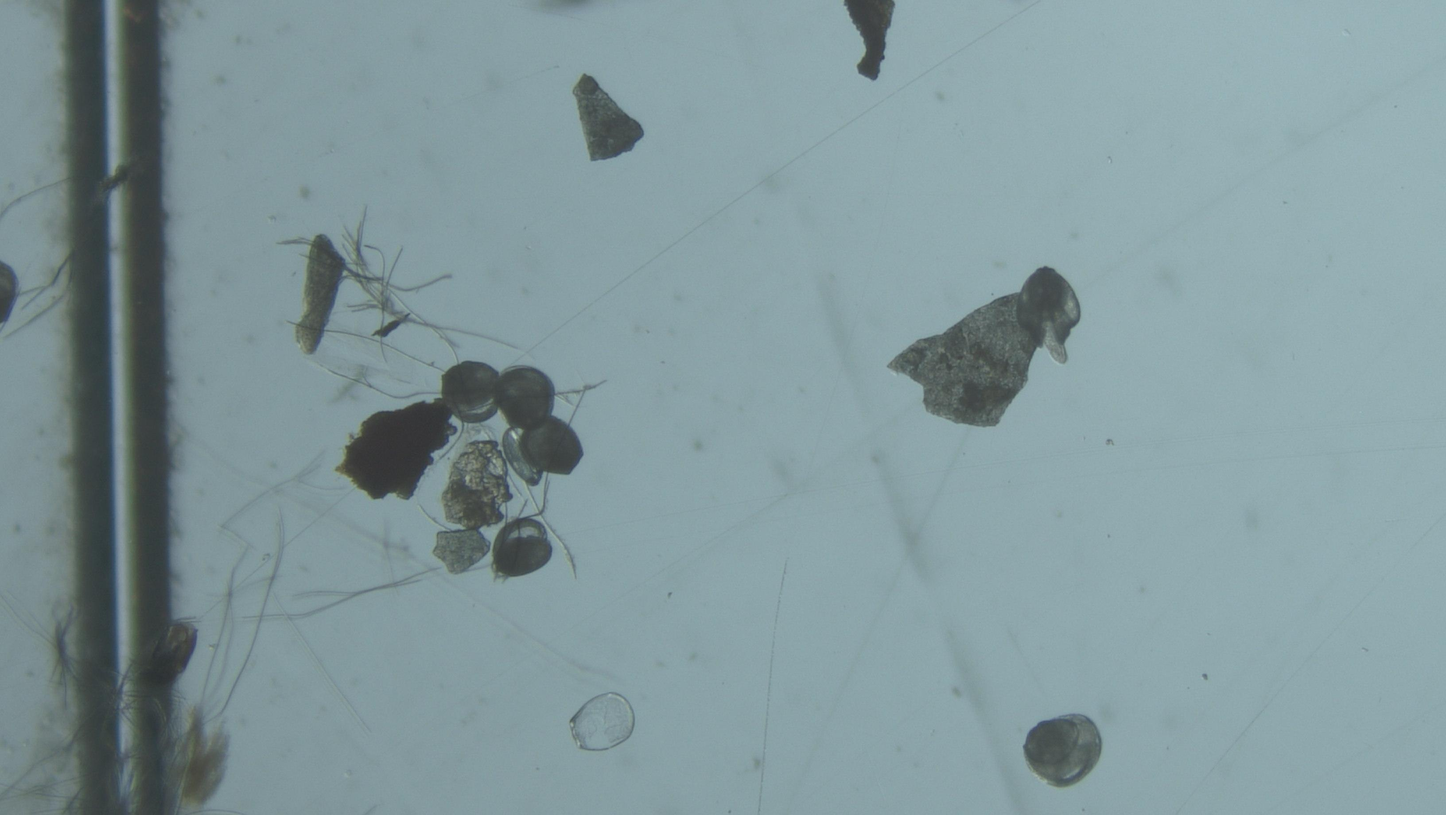dead: (570, 692, 635, 751), (500, 428, 543, 486)
live: (1016, 267, 1081, 363), (1023, 714, 1102, 788), (519, 416, 583, 475), (496, 367, 556, 429), (442, 361, 498, 423), (0, 262, 18, 324)
